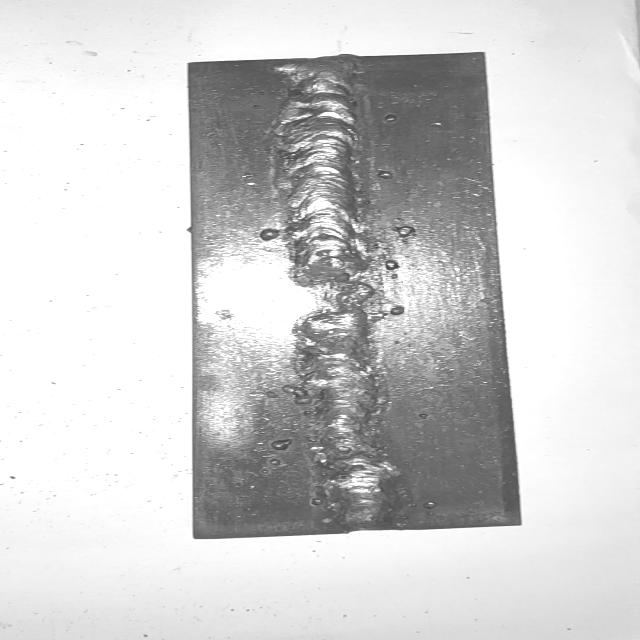Bad Weld: (291, 61, 391, 528)
Defect: (277, 261, 388, 332)
